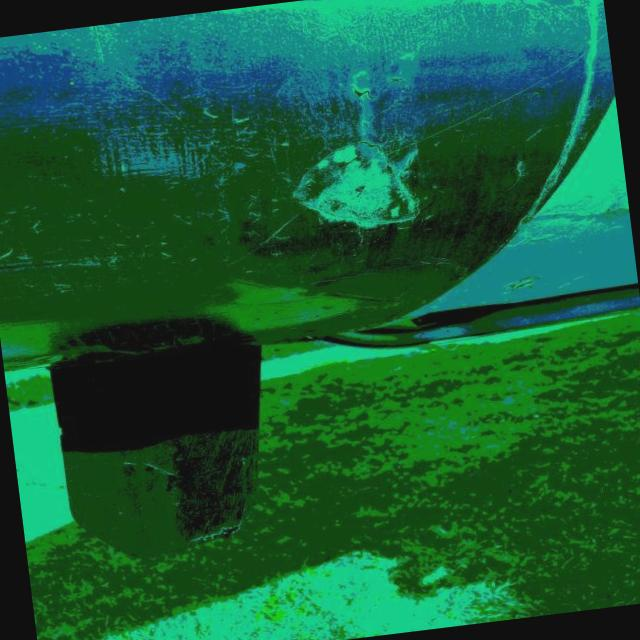crack: (346, 70, 422, 106)
dent: (285, 133, 435, 244)
